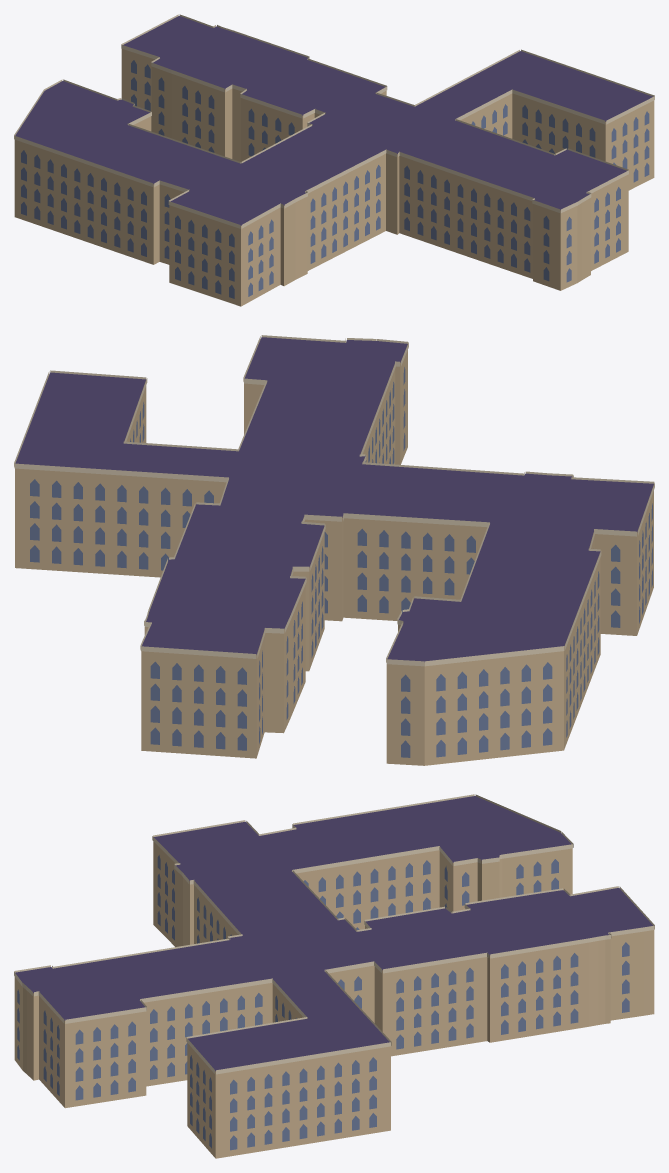
The model's file is core-biological-geological-sciences-day.glb.
3 views of the same model, one above another, from view 1: azimuth 30°, elevation 25°; view 2: azimuth 150°, elevation 25°; view 3: azimuth 270°, elevation 25° (orthographic). The views are drawn at different scales.
Parts seen in each view (by area): view 1: campus/core-biological-geological-sciences-day-0; view 2: campus/core-biological-geological-sciences-day-0; view 3: campus/core-biological-geological-sciences-day-0.
Part boxes in pixels (x1=…): campus/core-biological-geological-sciences-day-0: x1=14, y1=14, x2=654, y2=306; campus/core-biological-geological-sciences-day-0: x1=14, y1=335, x2=654, y2=765; campus/core-biological-geological-sciences-day-0: x1=14, y1=794, x2=654, y2=1158.
Bounding box in the file's own units: 105 × 15.75 × 103.
